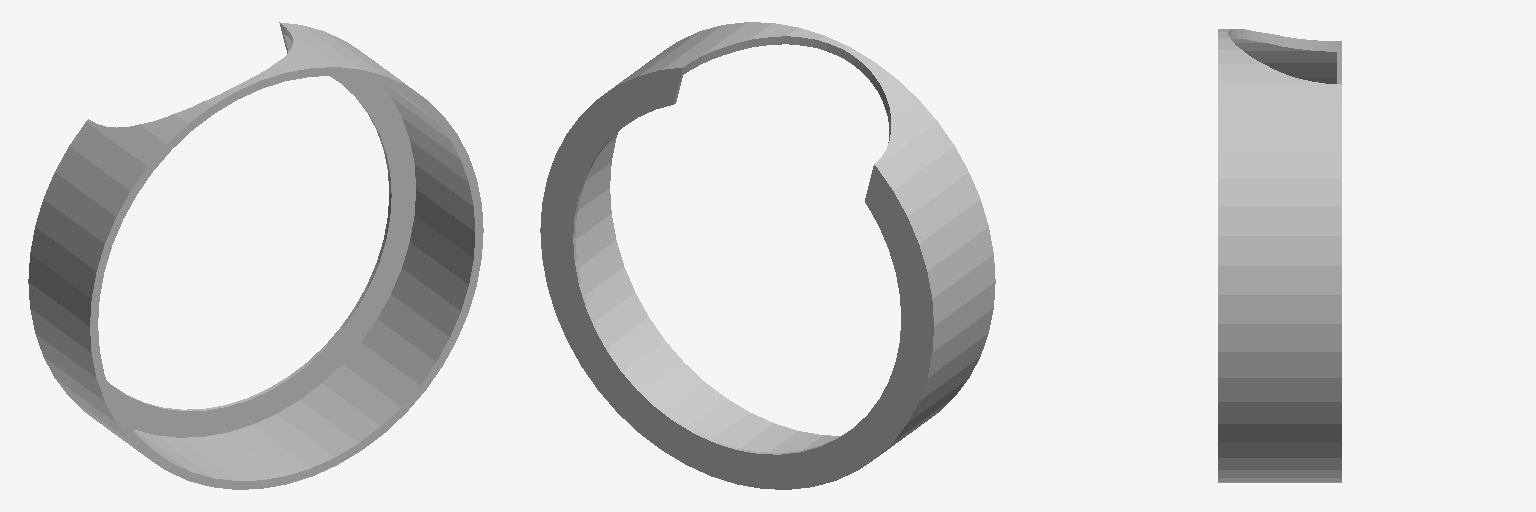
The model's file is pool_006.obj.
3 views of the same model, side by side, from view 1: azimuth 30°, elevation 25°; view 2: azimuth 150°, elevation 25°; view 3: azimuth 270°, elevation 25° (orthographic).
Size of the model in its own units: 48 by 48 by 13.